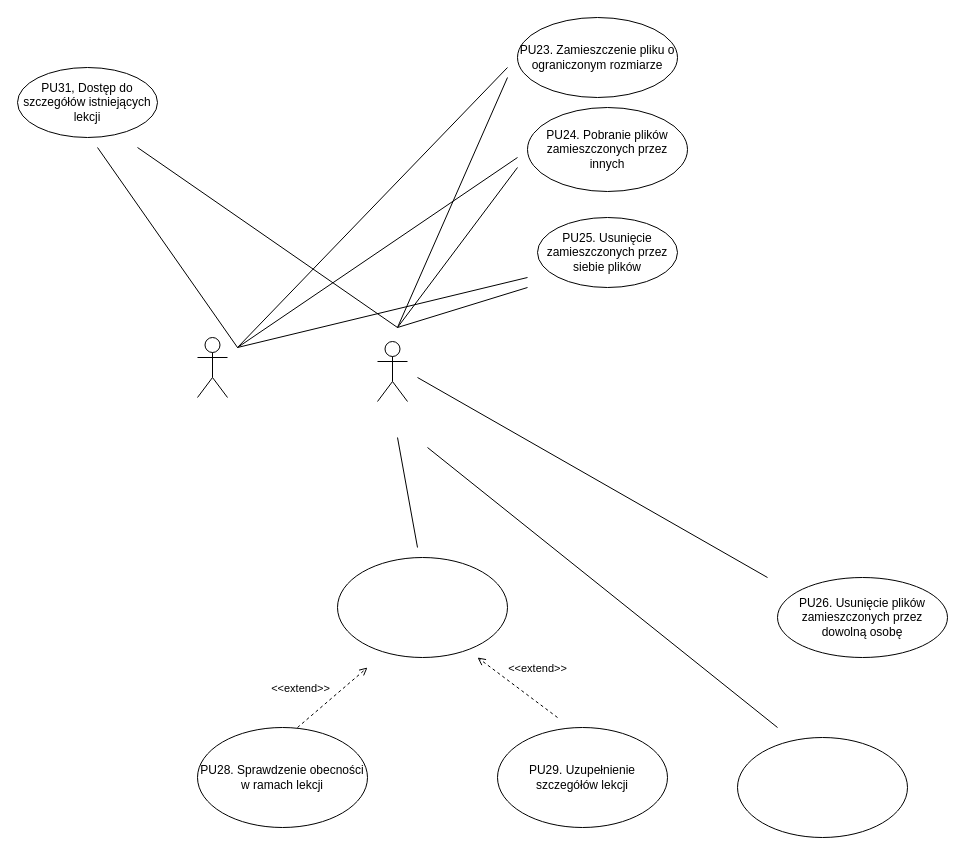
This 965x855 diagram has some shape labels left out. The centre of each missing label's shape, as x and y in pixels:
"Nauczyciel" goes at [392,371].
"PU27. Utworzenie lekcji przez nauczyciela" goes at [422,607].
"PU30. Możliwość edycji utworzonych już lekcji" goes at [822,787].
"Uczeń" goes at [212,367].
